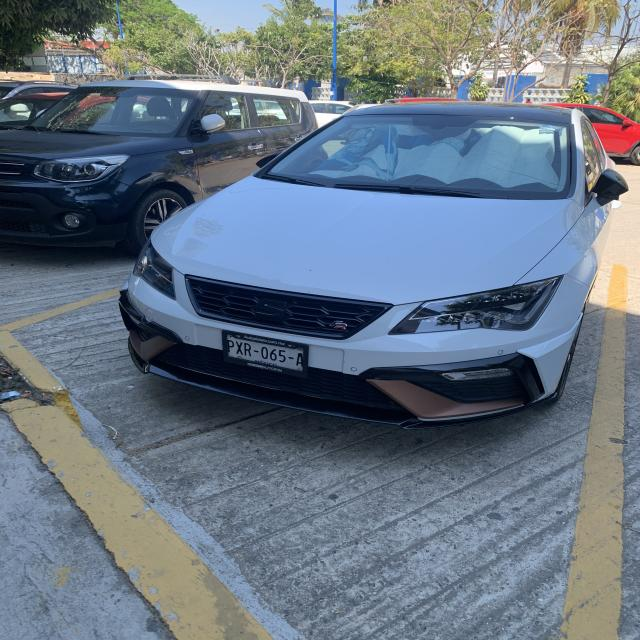placa: (220, 334, 311, 370)
